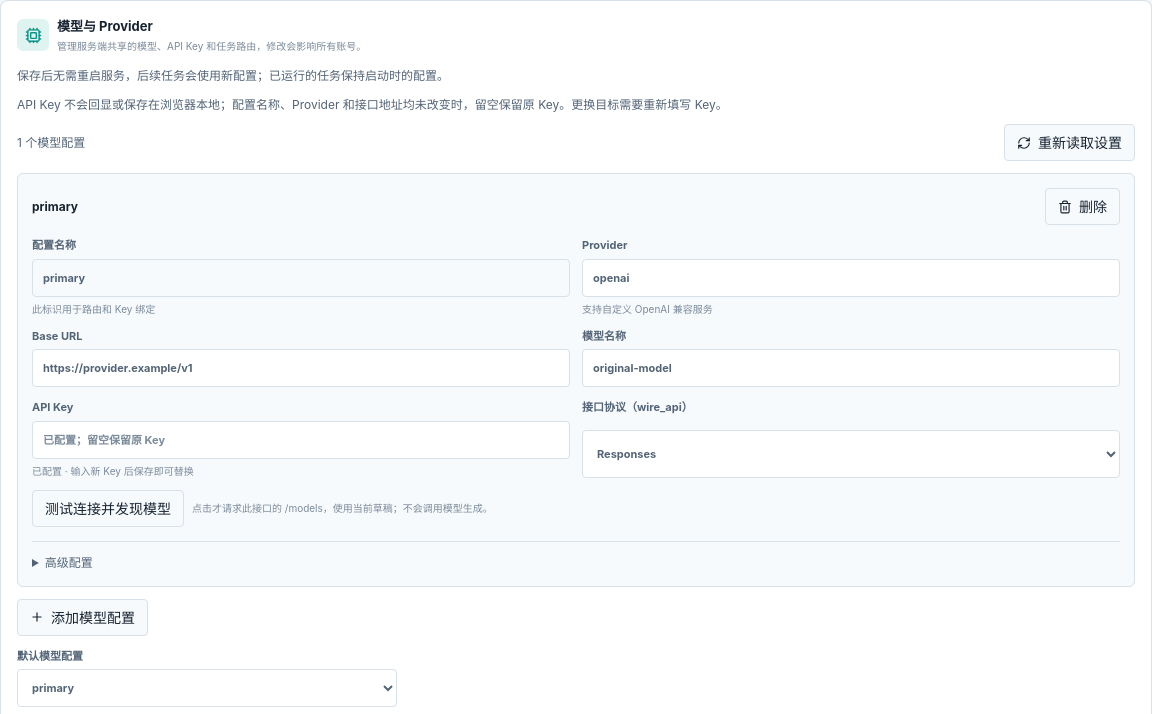
Test: model diagnostics draft workbench › requires a new key after target changes before a probe or save and preserves drafts
Replace the text in the field named "primary Base URL" with "https://new-provider.example/v1": (301, 368) [32, 349, 570, 387]
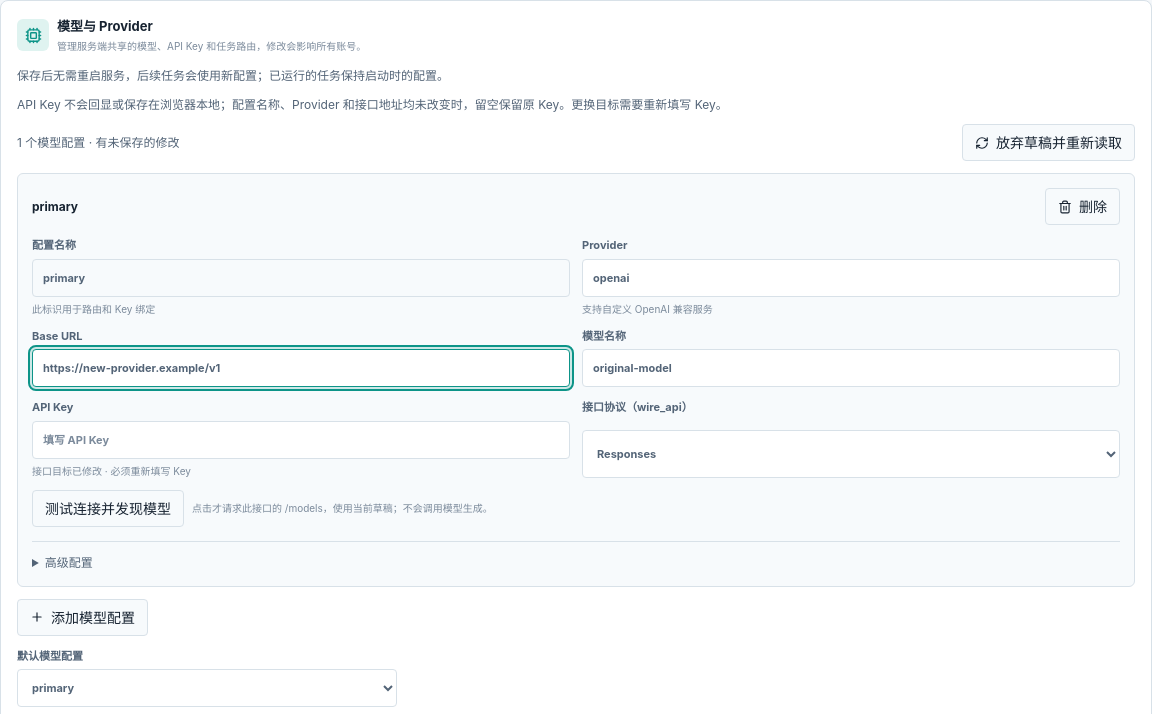
Expected: the text "接口目标已修改 · 必须重新填写 Key" is shown, [32, 465, 191, 477]
Click the button with aria-label "测试 primary 连接并发现模型": (108, 508) [32, 490, 184, 527]
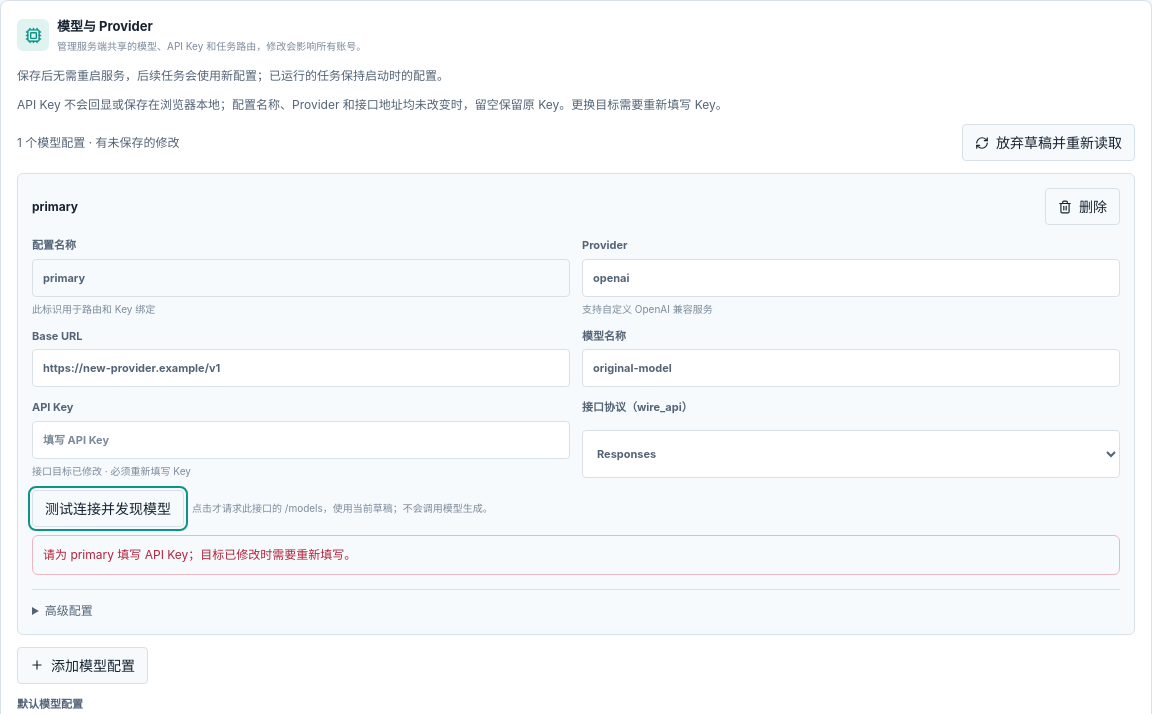
Expected: the message shows "目标已修改时需要重新填写", [43, 547, 356, 562]
In the password field named "primary API Key": (301, 440) [32, 421, 570, 459], type "new-test-key"
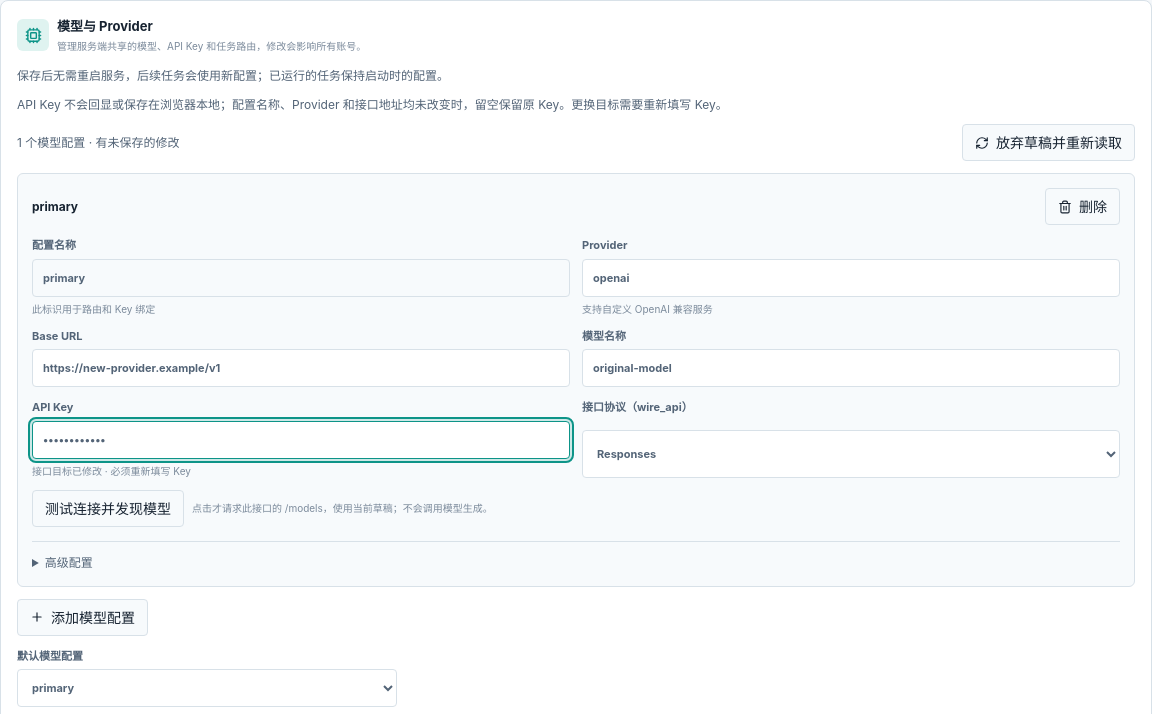
Click the button with aria-label "测试 primary 连接并发现模型": (108, 508) [32, 490, 184, 527]
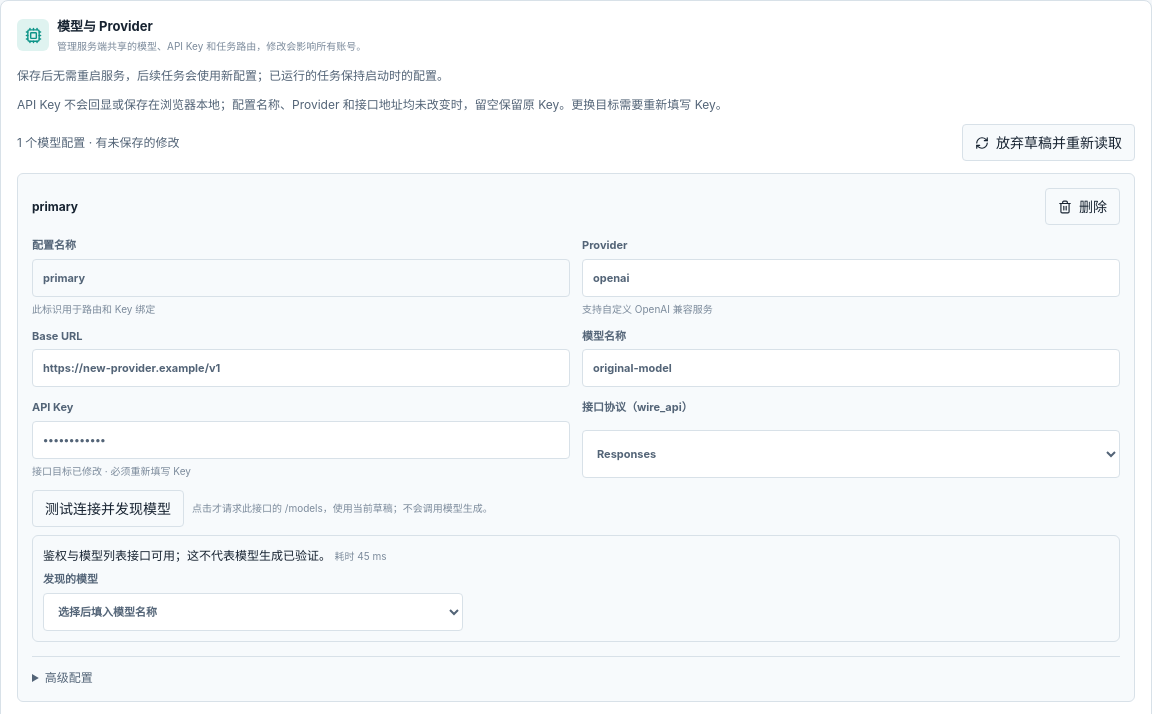
Expected: the dropdown named "primary 发现的模型" is shown, [43, 593, 463, 631]
